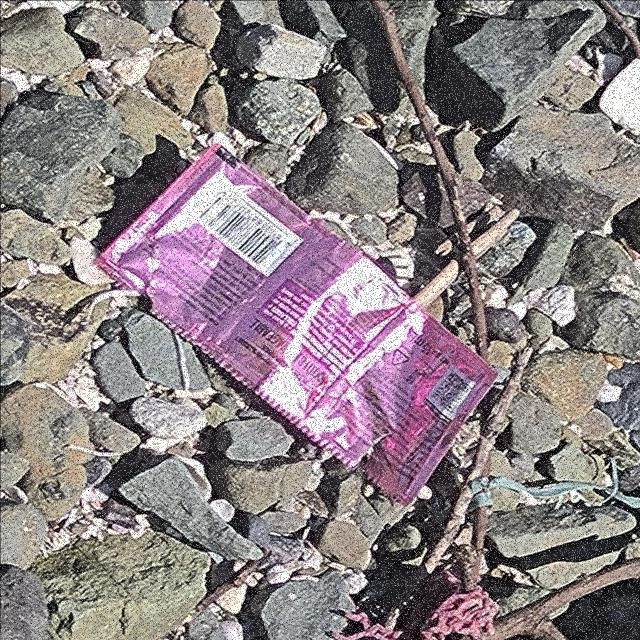plastic_waste: (93, 143, 498, 509)
